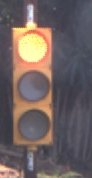Red: (5, 16, 69, 145)
